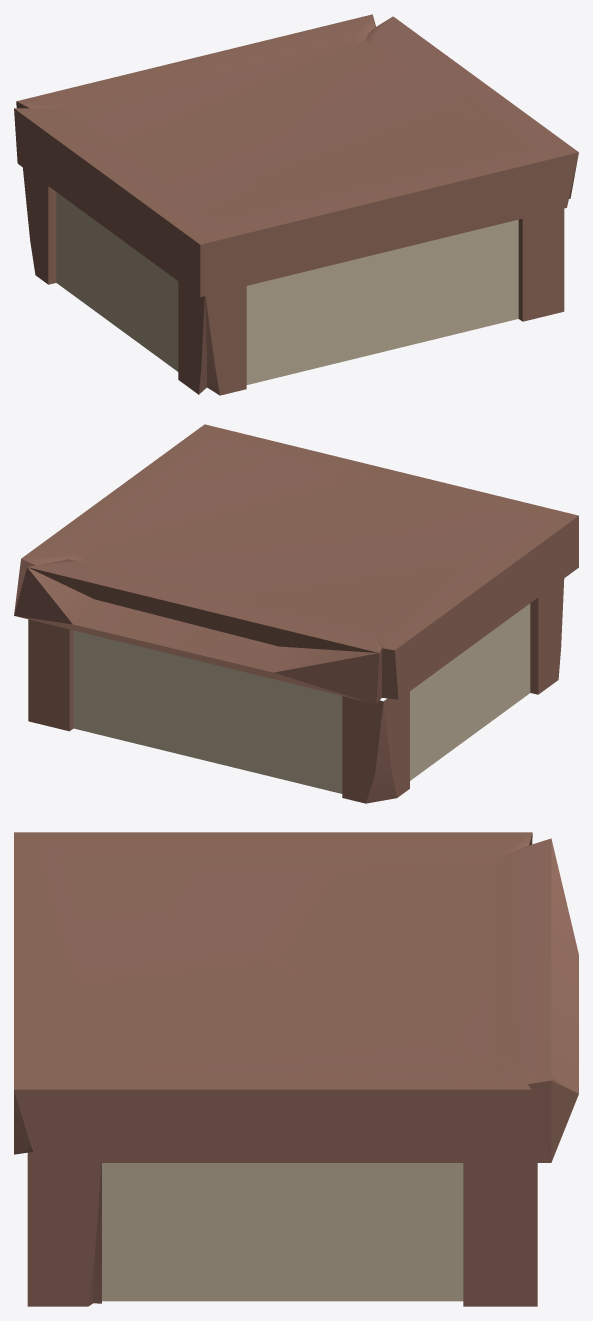
File: SM_Crate_03.fbx
3 renders of one model, top to bottom at view 1: azimuth 30°, elevation 25°; view 2: azimuth 150°, elevation 25°; view 3: azimuth 270°, elevation 25°, orthographic. The views are drawn at different scales.
Parts seen in each view (by area): view 1: Crate_03; view 2: Crate_03; view 3: Crate_03.
Part boxes in pixels (left/top/right/bottom): Crate_03: left=14, top=14, right=578, bottom=395; Crate_03: left=14, top=424, right=578, bottom=803; Crate_03: left=14, top=832, right=578, bottom=1306.
Size of the model in its own units: 65.84 by 26.67 by 61.08.
